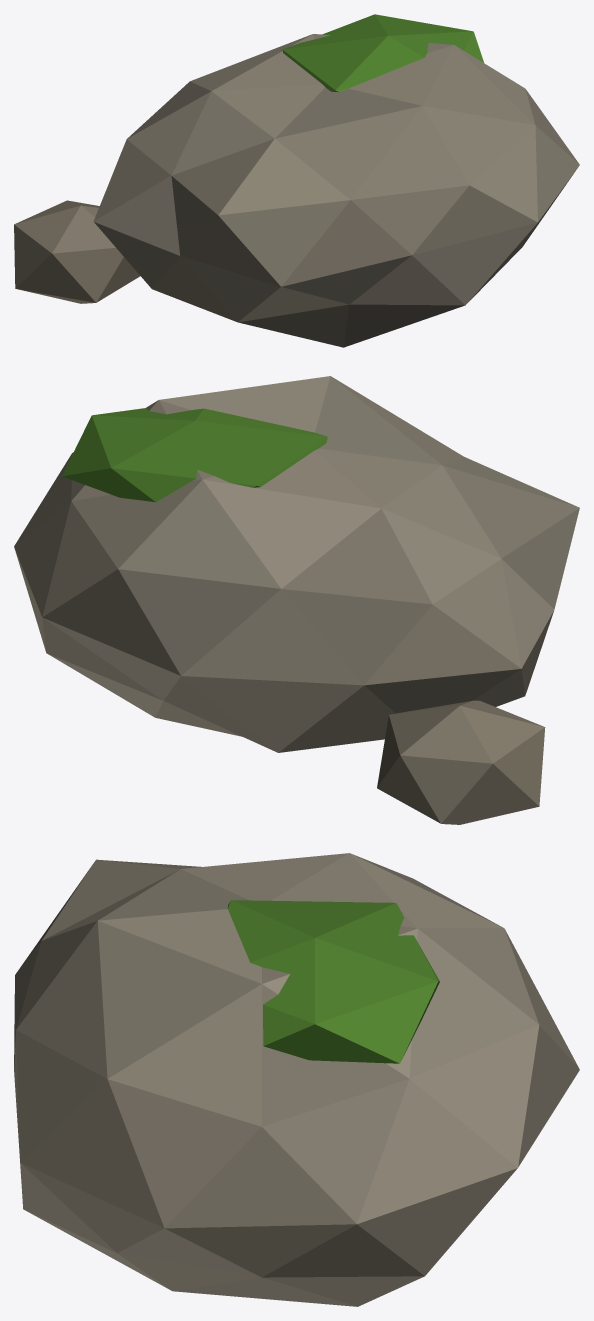
The model's file is Rock.glb.
The picture shows the model from 3 angles, top to bottom: view 1: azimuth 30°, elevation 25°; view 2: azimuth 150°, elevation 25°; view 3: azimuth 270°, elevation 25°; orthographic projection. The views are drawn at different scales.
Parts seen in each view (by area): view 1: Rock; view 2: Rock; view 3: Rock.
Boxes of the visible parts, x1,y1,x2,y2 form: Rock: (14,14,579,347); Rock: (14,376,579,824); Rock: (14,853,579,1306).
Bounding box in the file's own units: 1.52 × 0.739 × 1.07.
